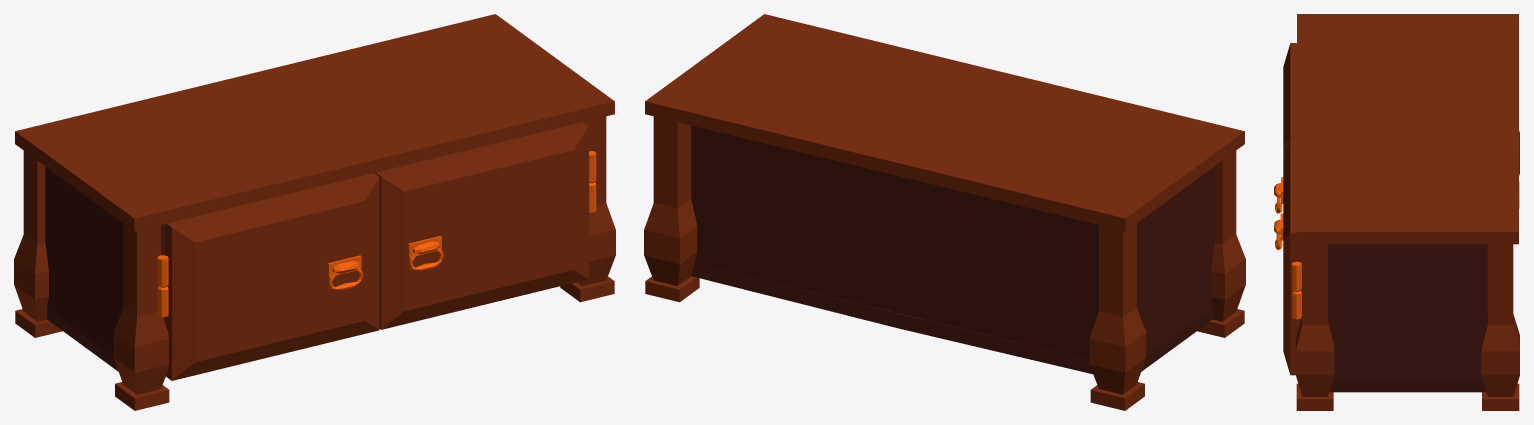
The model's file is Furniture_1.fbx.
3 views of the same model, side by side, from view 1: azimuth 30°, elevation 25°; view 2: azimuth 150°, elevation 25°; view 3: azimuth 270°, elevation 25° (orthographic). The views are drawn at different scales.
Parts seen in each view (by area): view 1: Wealth_Shelw_4.001, Left_Door.001, Right_Door.001; view 2: Wealth_Shelw_4.001; view 3: Wealth_Shelw_4.001, Right_Door.001, Left_Door.001.
Boxes of the visible parts, x1=… form: Wealth_Shelw_4.001: x1=14, y1=14, x2=615, y2=410; Left_Door.001: x1=157, y1=173, x2=379, y2=380; Right_Door.001: x1=375, y1=122, x2=596, y2=329; Wealth_Shelw_4.001: x1=644, y1=14, x2=1245, y2=410; Wealth_Shelw_4.001: x1=1296, y1=14, x2=1519, y2=410; Right_Door.001: x1=1274, y1=138, x2=1302, y2=375; Left_Door.001: x1=1274, y1=43, x2=1296, y2=213.
Bounding box in the file's own units: 195 × 74.37 × 92.63.
